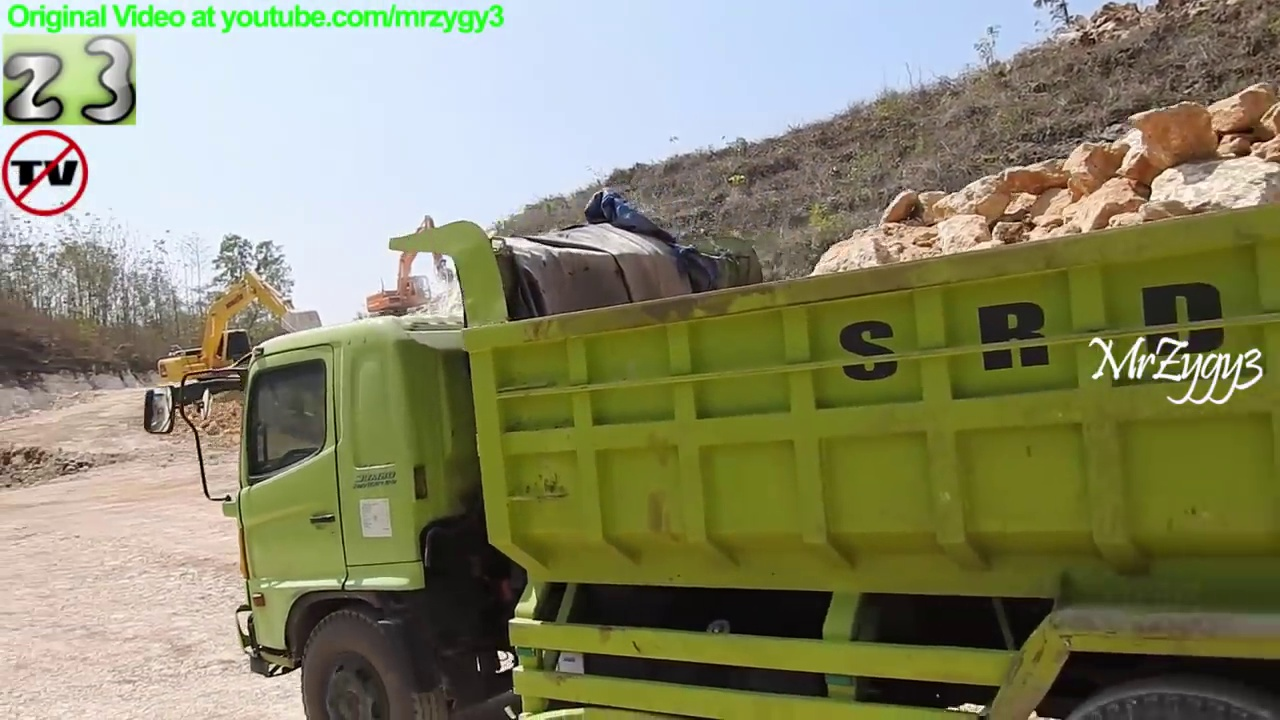excavator: (150, 262, 333, 416), (360, 210, 462, 324)
truck: (136, 212, 1280, 720)
